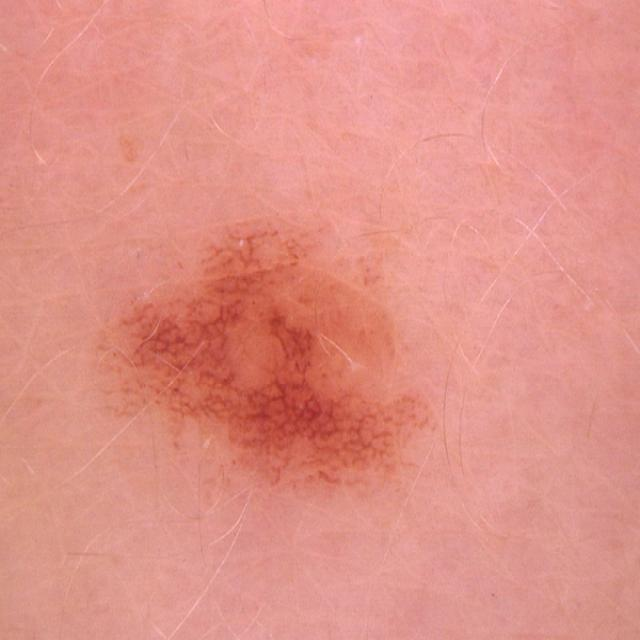NV: (97, 215, 433, 501)
